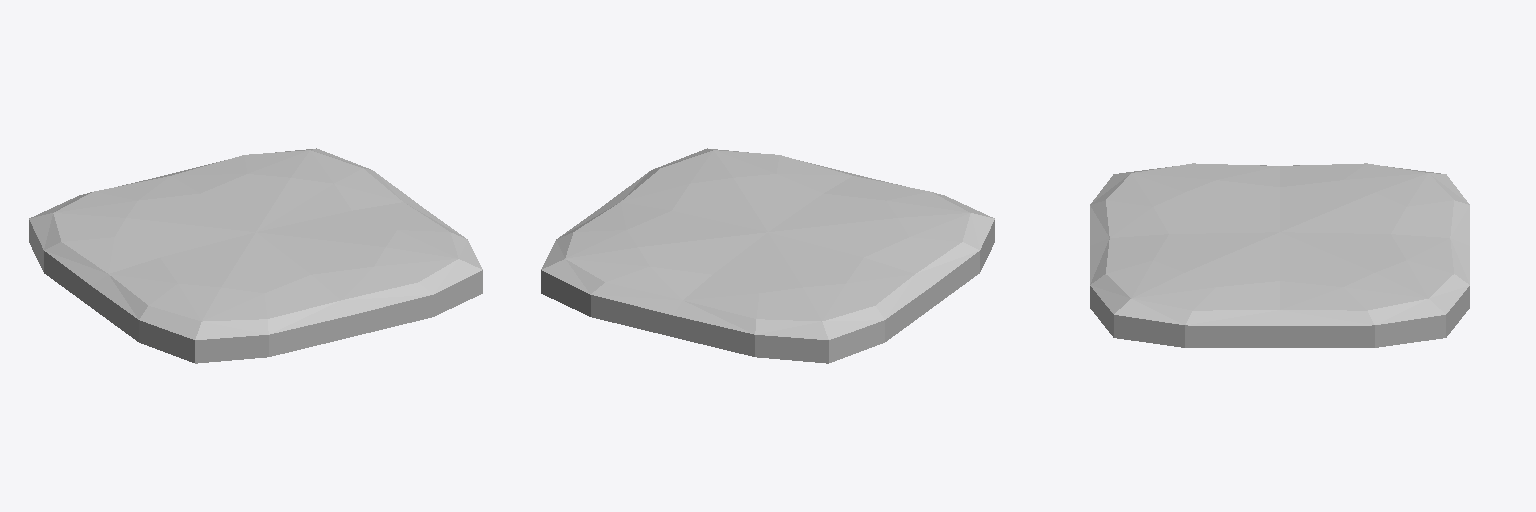
Rendered from platform-high.obj.
3 renders of one model, left to right at view 1: azimuth 30°, elevation 25°; view 2: azimuth 150°, elevation 25°; view 3: azimuth 270°, elevation 25°, orthographic.
Parts seen in each view (by area): view 1: Cube_Cube.001; view 2: Cube_Cube.001; view 3: Cube_Cube.001.
Part boxes in pixels (bbox=[...]): Cube_Cube.001: bbox=[29, 148, 482, 363]; Cube_Cube.001: bbox=[541, 148, 994, 363]; Cube_Cube.001: bbox=[1090, 163, 1469, 347].
Bounding box in the file's own units: 2 × 0.2758 × 2.